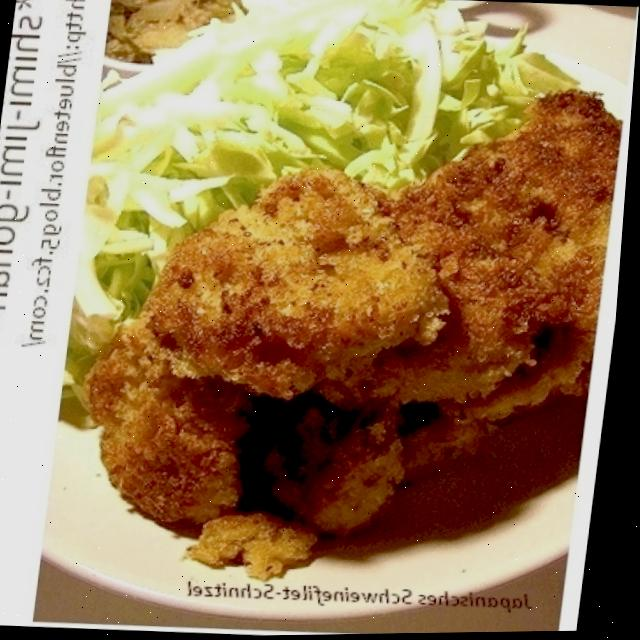牛肉菜式: (69, 30, 628, 633)
